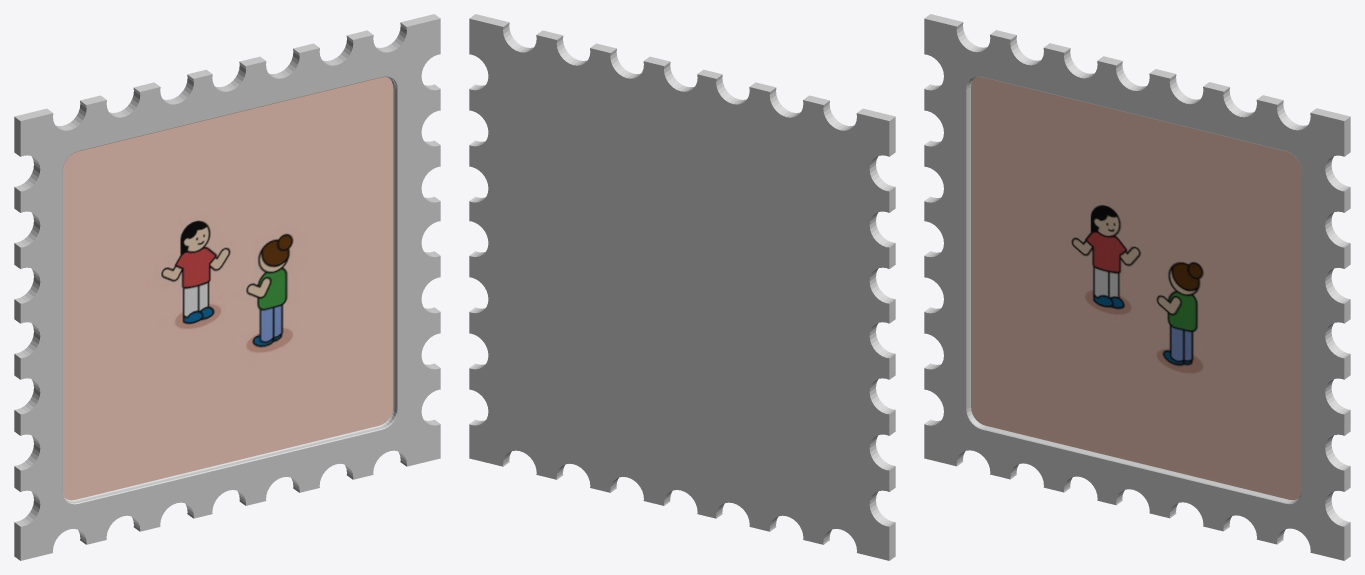
Rendered from B_Olivia_14.glb.
The picture shows the model from 3 angles, left to right: view 1: azimuth 30°, elevation 25°; view 2: azimuth 150°, elevation 25°; view 3: azimuth 330°, elevation 25°; orthographic projection.
Visible parts, largest first — view 1: Plane015, Plane014; view 2: Plane014; view 3: Plane015, Plane014.
Boxes of the visible parts, x1,y1,x2,y2 form: Plane015: [63, 77, 393, 500]; Plane014: [14, 14, 440, 560]; Plane014: [469, 14, 895, 560]; Plane015: [971, 77, 1301, 499]; Plane014: [924, 14, 1350, 560].
Bounding box in the file's own units: 0.3 × 0.3 × 0.00781.
Materials: 2 (1 with a texture image).
